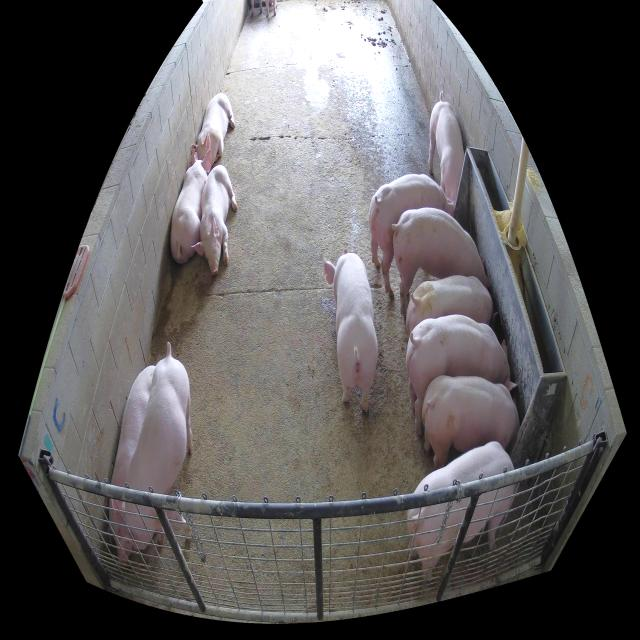pig: (116, 343, 194, 552), (407, 443, 514, 582), (405, 317, 517, 437), (369, 172, 454, 302), (393, 207, 489, 319), (108, 367, 156, 571), (422, 375, 525, 469), (325, 251, 377, 415), (406, 276, 498, 343), (192, 165, 238, 275), (170, 147, 212, 264), (428, 93, 465, 209), (190, 94, 235, 169)
